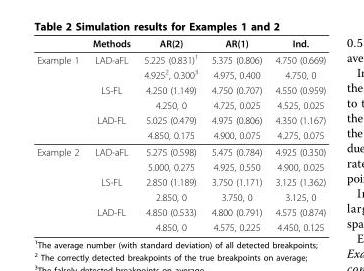table: (36, 37, 325, 232)
table column: (136, 37, 204, 232), (204, 37, 268, 232), (268, 37, 325, 232), (85, 37, 136, 232), (36, 37, 85, 232)
table column header: (36, 37, 325, 50)
table row: (36, 50, 325, 66), (36, 66, 325, 82), (36, 127, 325, 143), (36, 143, 325, 159), (36, 82, 325, 97), (36, 97, 325, 112), (36, 112, 325, 127), (36, 159, 325, 174), (36, 174, 325, 189), (36, 189, 325, 204), (36, 204, 325, 219), (36, 37, 325, 50), (36, 219, 325, 232)
table spanning cell: (36, 50, 85, 143), (36, 143, 85, 232)
